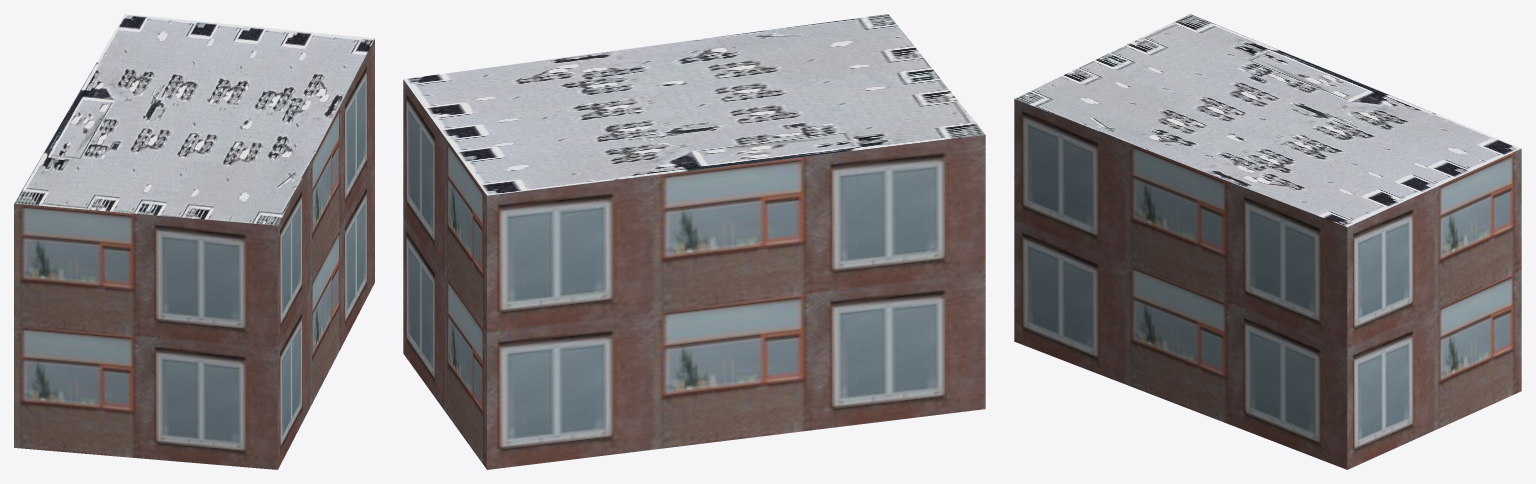
The model's file is ResTex__4980.fbx.
3 renders of one model, left to right at view 1: azimuth 30°, elevation 25°; view 2: azimuth 150°, elevation 25°; view 3: azimuth 270°, elevation 25°, orthographic. The views are drawn at different scales.
Parts seen in each view (by area): view 1: CityEngineMaterial_19_m, CityEngineMaterial_15_m; view 2: CityEngineMaterial_19_m, CityEngineMaterial_15_m; view 3: CityEngineMaterial_19_m, CityEngineMaterial_15_m.
Part boxes in pixels (x1=…): CityEngineMaterial_19_m: x1=14, y1=39, x2=374, y2=469; CityEngineMaterial_15_m: x1=14, y1=14, x2=374, y2=225; CityEngineMaterial_19_m: x1=403, y1=80, x2=985, y2=469; CityEngineMaterial_15_m: x1=403, y1=14, x2=985, y2=195; CityEngineMaterial_19_m: x1=1014, y1=99, x2=1521, y2=469; CityEngineMaterial_15_m: x1=1015, y1=14, x2=1520, y2=227.
Bounding box in the file's own units: 11.3 × 6 × 11.36.
Materials: 2 (2 with a texture image).
